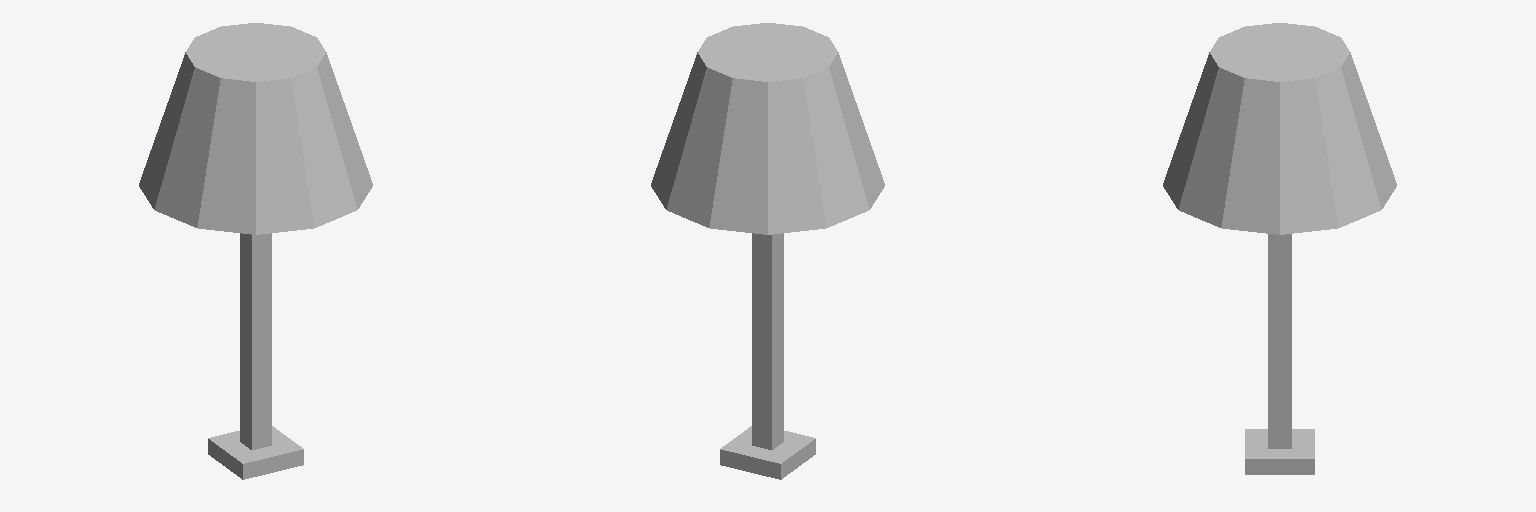
The model's file is lampara.obj.
3 views of the same model, side by side, from view 1: azimuth 30°, elevation 25°; view 2: azimuth 150°, elevation 25°; view 3: azimuth 270°, elevation 25° (orthographic).
Visible parts, largest first — view 1: lampara:polySurface1; view 2: lampara:polySurface1; view 3: lampara:polySurface1.
Boxes of the visible parts, x1=… form: lampara:polySurface1: x1=139, y1=23, x2=372, y2=479; lampara:polySurface1: x1=651, y1=23, x2=884, y2=479; lampara:polySurface1: x1=1163, y1=23, x2=1396, y2=474.
Size of the model in its own units: 0.4 by 0.765 by 0.4.